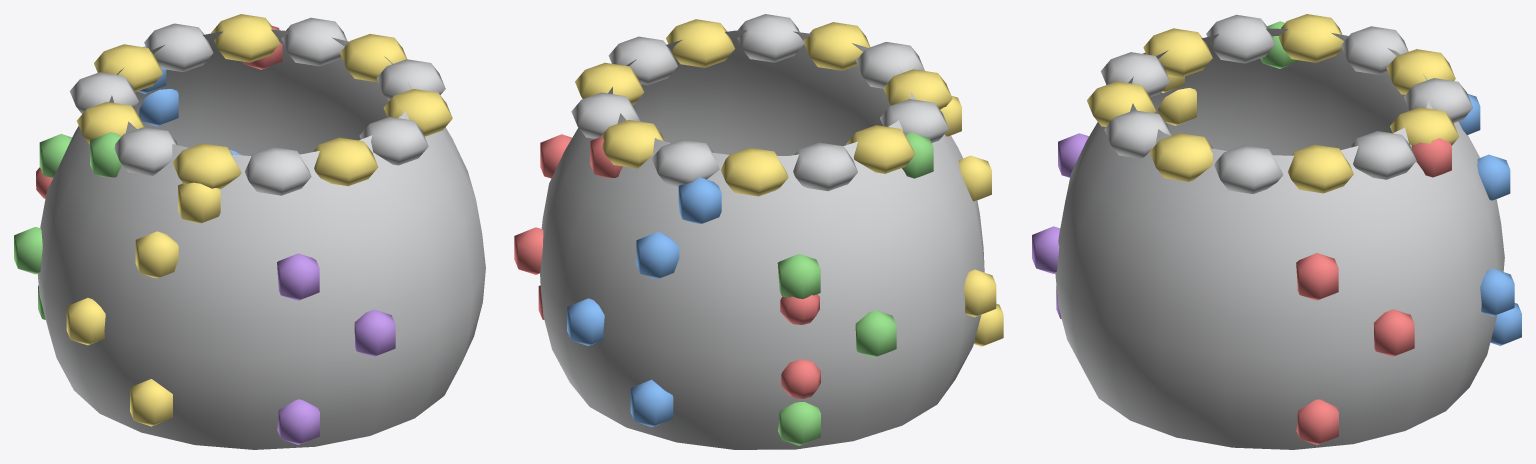
File: clown_chest.fbx
The picture shows the model from 3 angles, left to right: view 1: azimuth 30°, elevation 25°; view 2: azimuth 150°, elevation 25°; view 3: azimuth 270°, elevation 25°; orthographic projection.
Parts seen in each view (by area): view 1: clown_chest; view 2: clown_chest; view 3: clown_chest.
Part boxes in pixels (<box>): clown_chest: <box>14,14,485,449</box>; clown_chest: <box>514,14,1003,449</box>; clown_chest: <box>1032,14,1521,449</box>.
Bounding box in the file's own units: 1.82 × 1.18 × 1.85.
